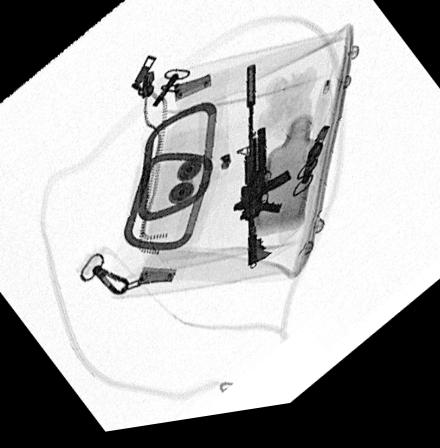Gun: (231, 68, 292, 274)
